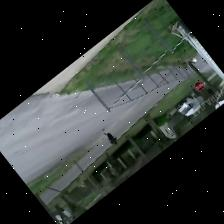person: (103, 132, 117, 143)
